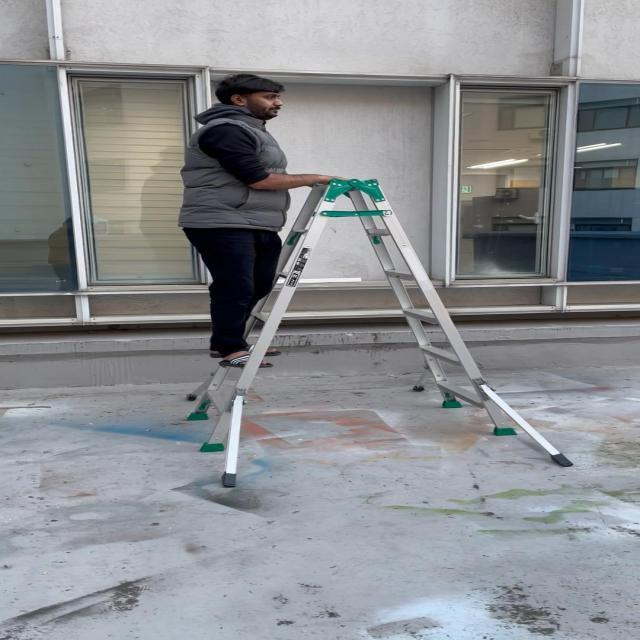boots: (163, 175, 581, 489)
vest: (172, 68, 368, 372)
